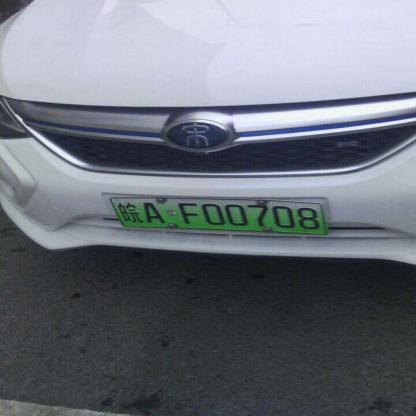lp: (110, 197, 327, 234)
